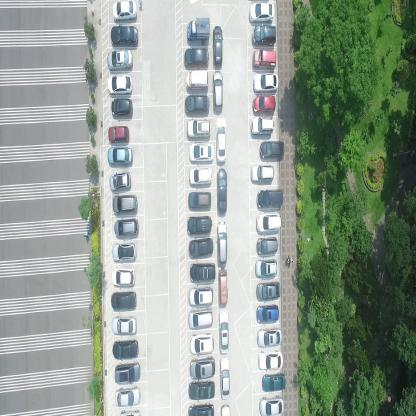car: (188, 330, 214, 355), (188, 355, 214, 380), (186, 235, 214, 258), (110, 337, 138, 360), (110, 24, 138, 46), (186, 17, 210, 42), (112, 216, 138, 239), (186, 284, 213, 306), (214, 219, 226, 267), (189, 260, 214, 283), (115, 385, 140, 408), (256, 186, 282, 208), (183, 46, 209, 68), (112, 193, 138, 215), (110, 241, 136, 263), (110, 290, 136, 312), (257, 348, 283, 370), (113, 360, 140, 381), (187, 380, 215, 400), (255, 211, 281, 232), (256, 324, 282, 345), (112, 0, 138, 21), (217, 309, 229, 354), (105, 74, 132, 94), (106, 146, 133, 166), (218, 355, 230, 400), (215, 165, 226, 214), (215, 115, 226, 163), (184, 70, 208, 92), (186, 118, 210, 140), (188, 141, 212, 163), (187, 166, 211, 188), (110, 265, 134, 287), (249, 1, 274, 22), (253, 71, 278, 92), (259, 138, 284, 159), (107, 49, 132, 70), (187, 308, 213, 328), (258, 395, 284, 415), (108, 170, 130, 193), (252, 93, 276, 114), (186, 214, 211, 234), (260, 372, 285, 392), (112, 314, 137, 334), (212, 22, 223, 67), (252, 24, 276, 44), (252, 48, 276, 68), (250, 162, 274, 182), (187, 190, 211, 210), (249, 116, 274, 135), (255, 280, 280, 299), (184, 94, 209, 113), (255, 301, 278, 321), (254, 257, 276, 277), (110, 98, 132, 118), (255, 235, 277, 254), (106, 125, 129, 143), (213, 71, 223, 112), (217, 267, 227, 306), (188, 403, 215, 415)
